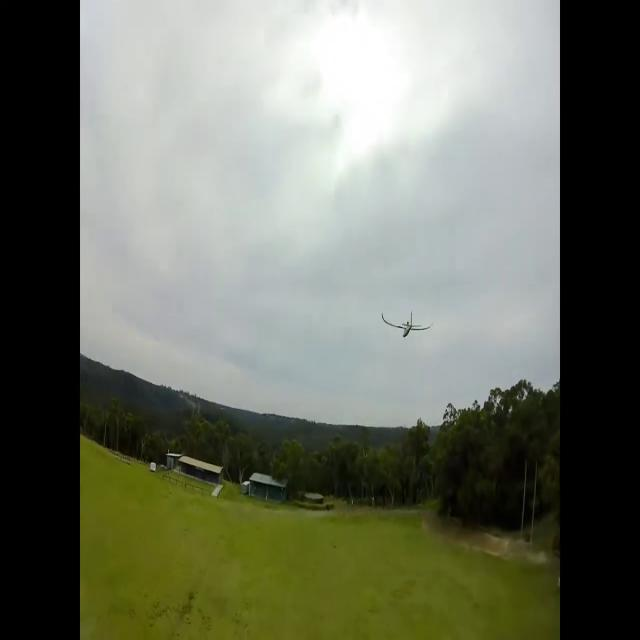iha: (379, 309, 433, 340)
